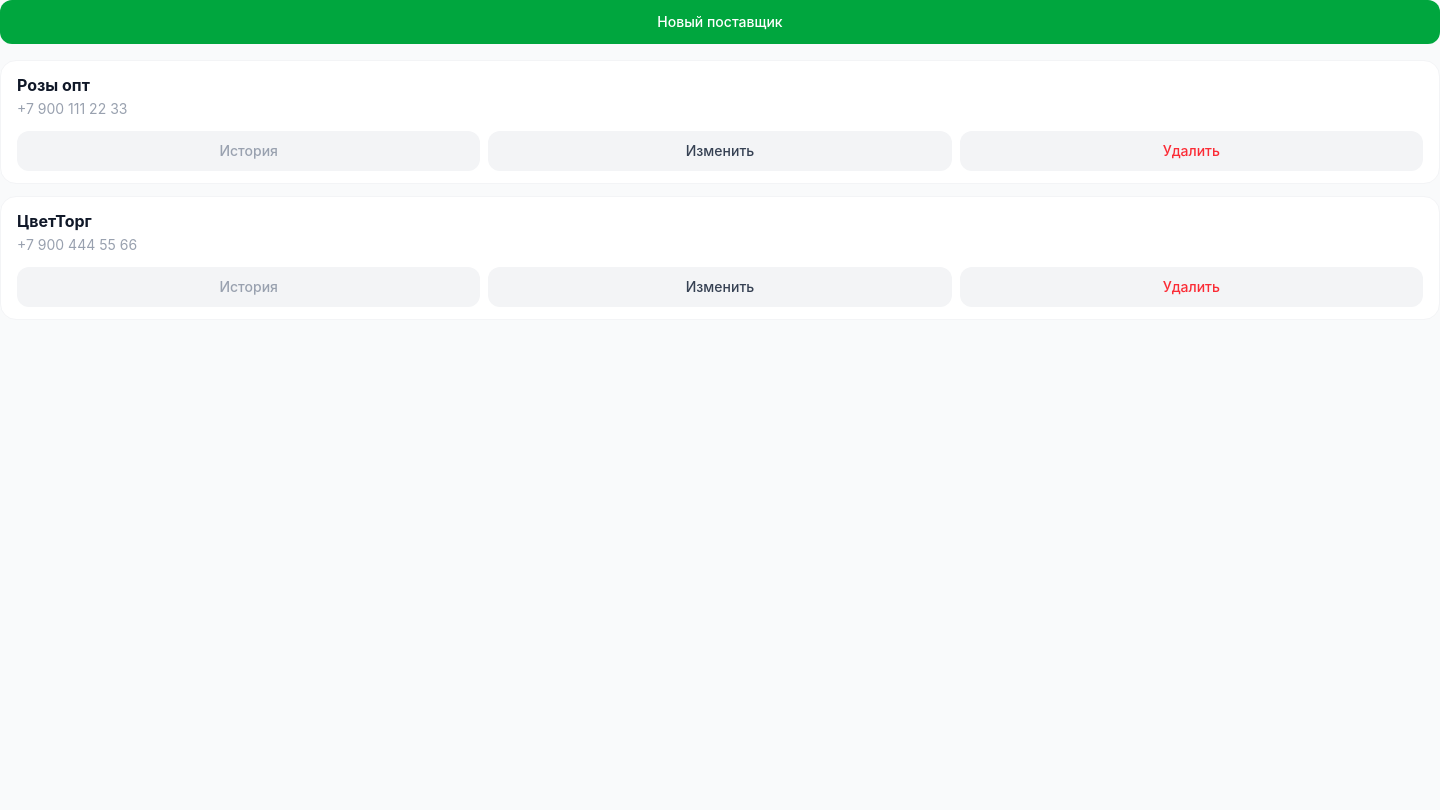
Test: SuppliersPage › показывает поставки в формате дата — название — количество — брак
What coordinates should you click on to do the following:
click the button "История" below "Розы опт"
I would click on:
 (249, 151)
Its box is top-left (17, 131), bottom-right (480, 171).
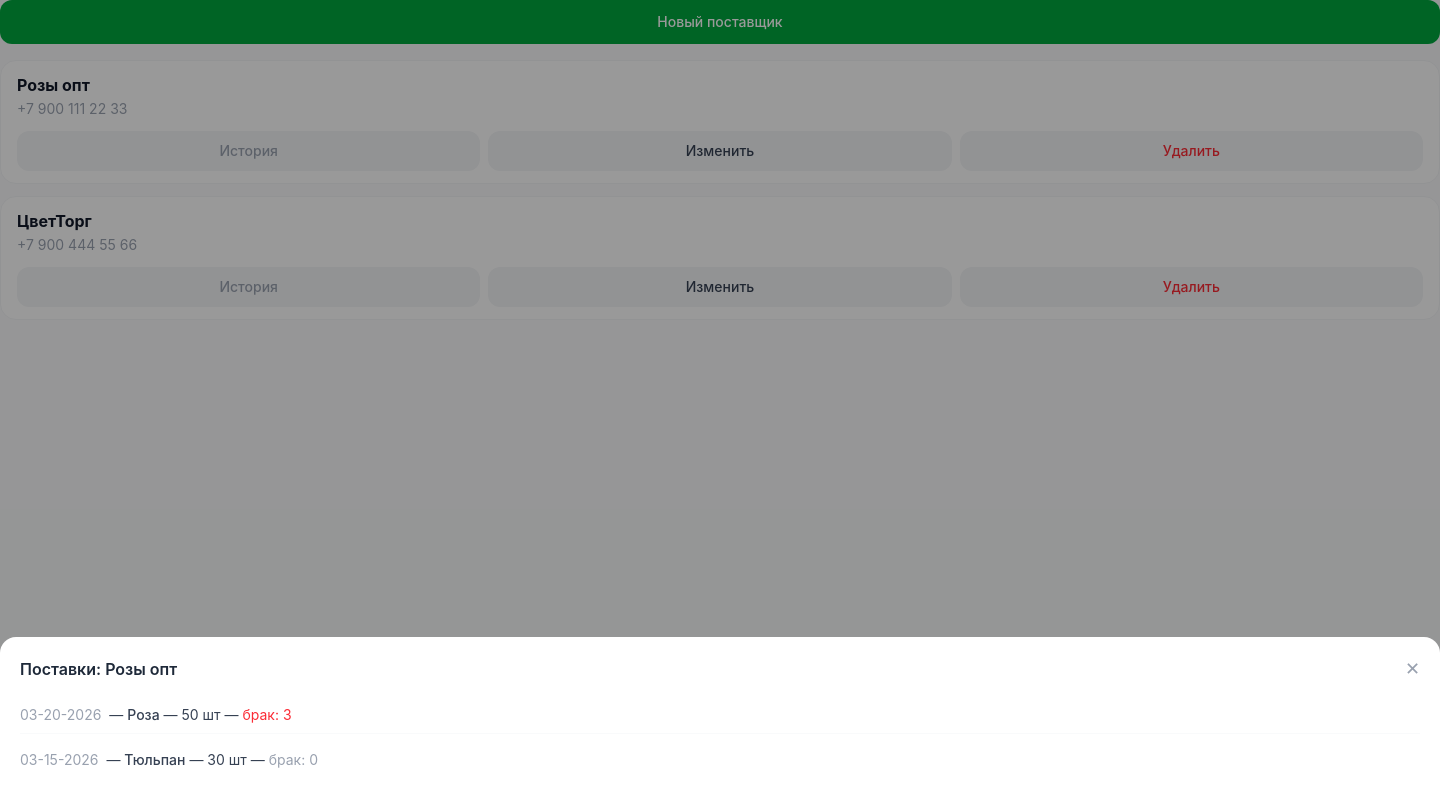
Expected: the text "03-20-2026" is shown, top-left (20, 706), bottom-right (101, 723)
Expected: the text "Роза" is shown, top-left (127, 706), bottom-right (160, 723)
Expected: the text "50 шт" is shown, top-left (182, 706), bottom-right (221, 723)
